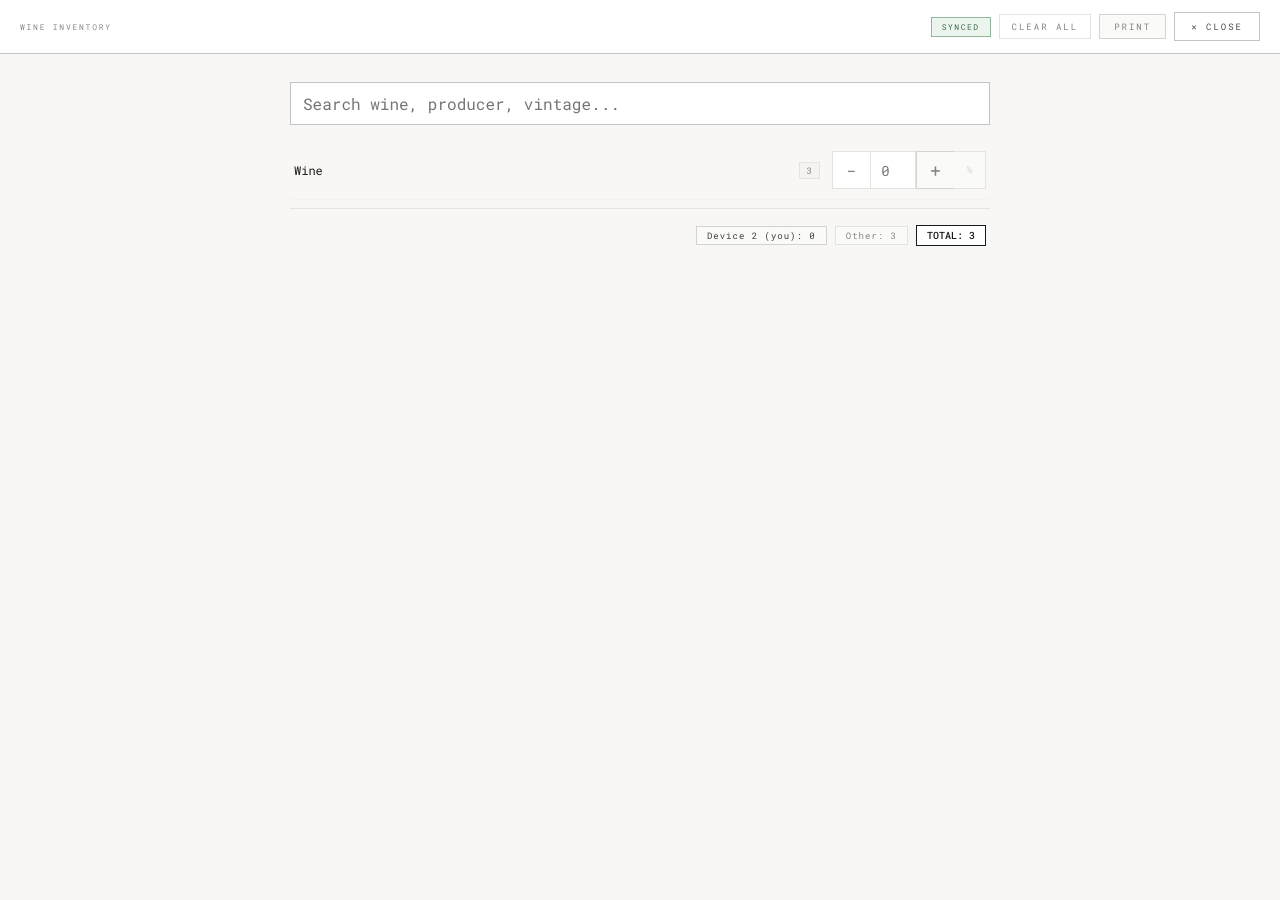
Test: inventory refresh and saves › refreshes other devices, including deletions, while keeping this device's count
Check: the text "Other: 3" is shown, box [835, 226, 908, 245]
Click the button "+": point(935, 170) [916, 151, 954, 189]
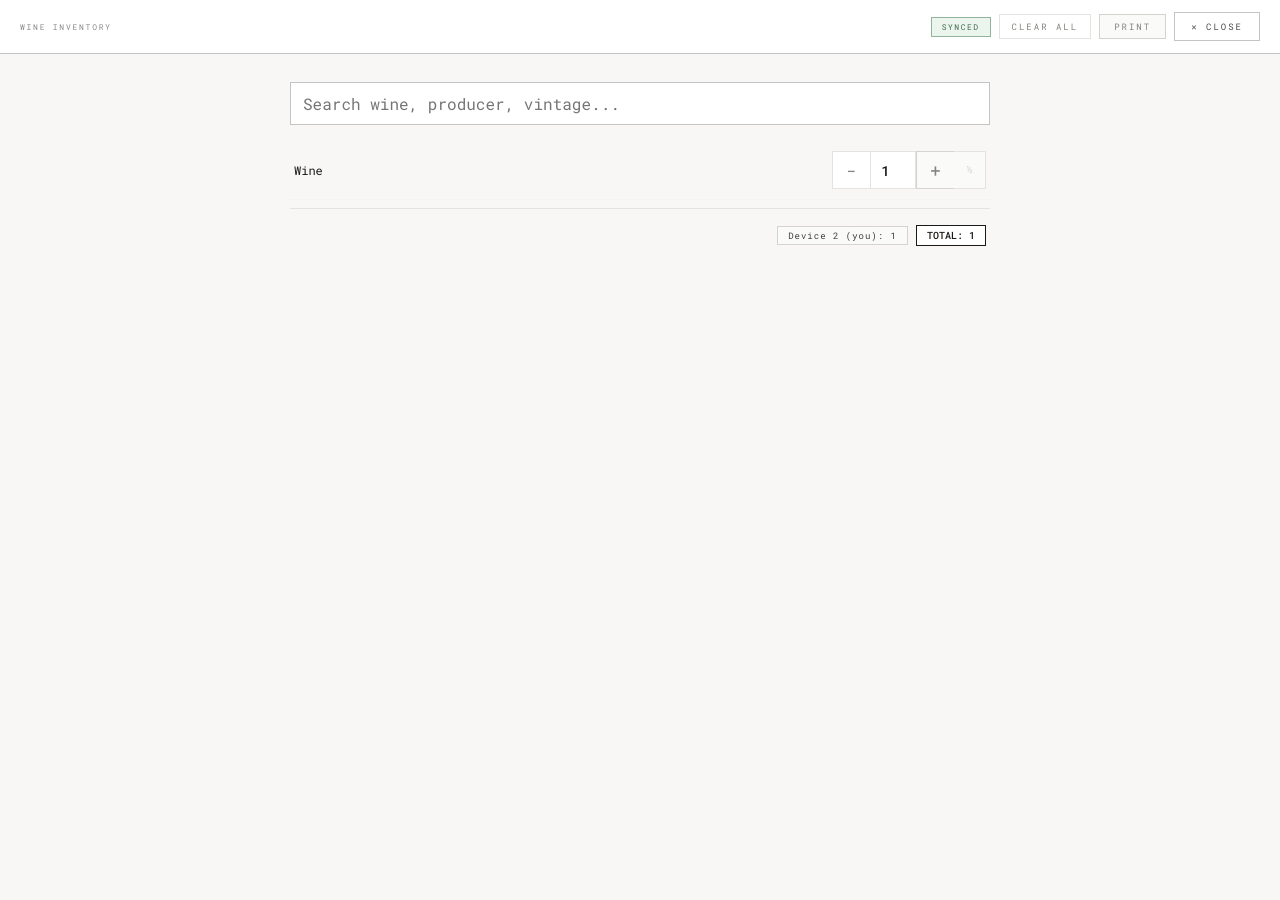
Check: the text "Other: 3" is gone
Check: the number field holds "1", box [870, 151, 916, 189]
